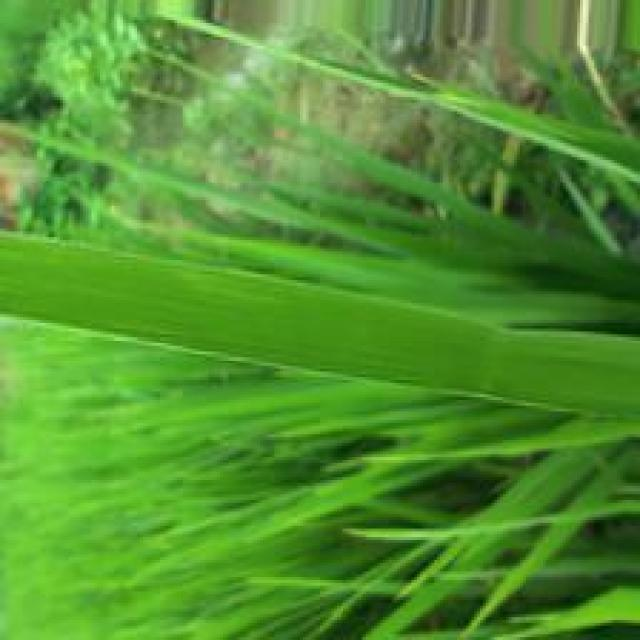HealthyLeaf: (5, 239, 636, 421)
